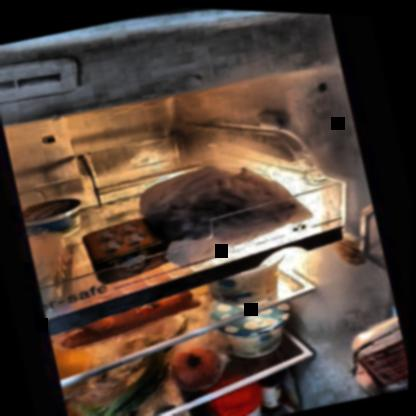butter: (82, 212, 172, 284)
carrot: (57, 285, 199, 351)
green_chillies: (69, 359, 172, 415)
milk: (139, 396, 206, 415)
tomato: (170, 341, 229, 390)
yoghurt: (213, 292, 303, 366), (208, 258, 293, 312), (23, 193, 86, 243)
